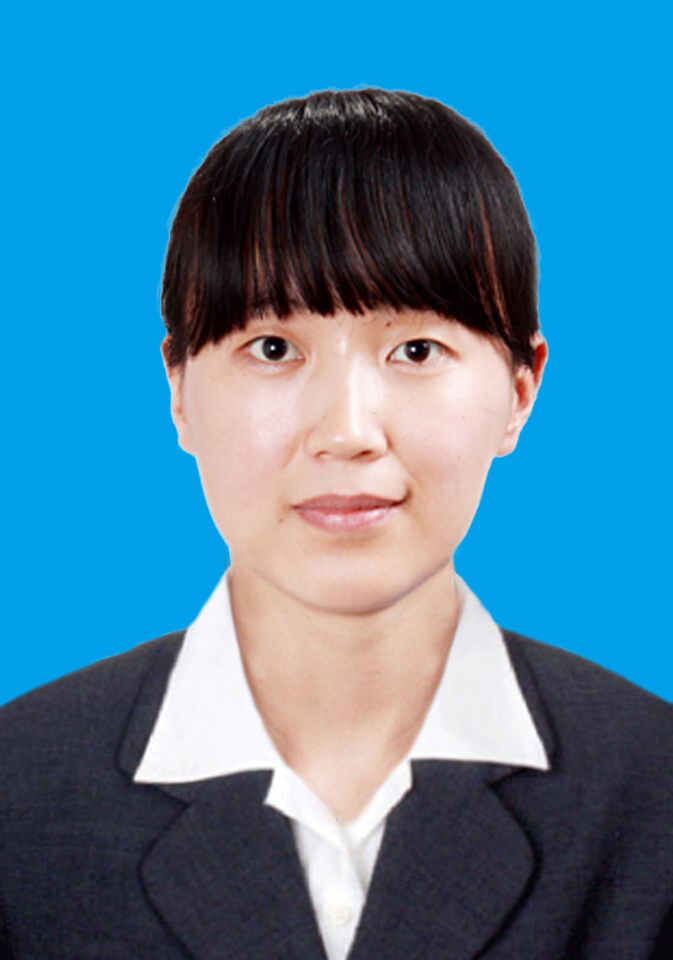unmask: (166, 261, 509, 617)
